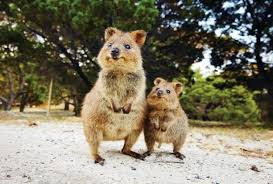quokka: (83, 23, 196, 167)
